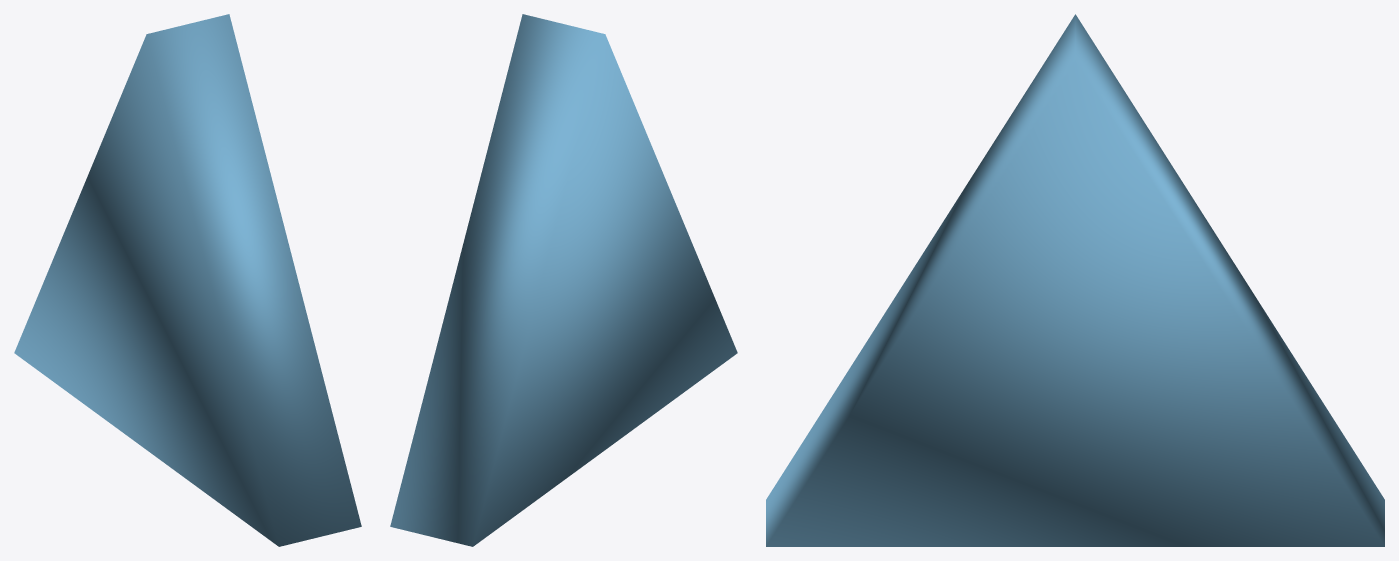
Rendered from shape-triangle-blue.glb.
The picture shows the model from 3 angles, left to right: view 1: azimuth 30°, elevation 25°; view 2: azimuth 150°, elevation 25°; view 3: azimuth 270°, elevation 25°; orthographic projection. The views are drawn at different scales.
Visible parts, largest first — view 1: solid triangle; view 2: solid triangle; view 3: solid triangle.
Boxes of the visible parts, x1,y1,x2,y2 form: solid triangle: (14,14,361,546); solid triangle: (390,14,737,546); solid triangle: (766,14,1384,546).
Bounding box in the file's own units: 0.25 × 1.2 × 1.39.
